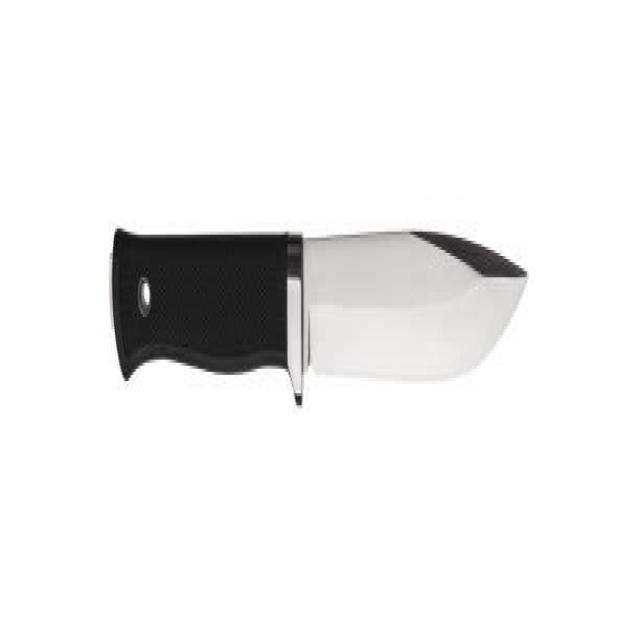knife: (99, 180, 548, 446)
